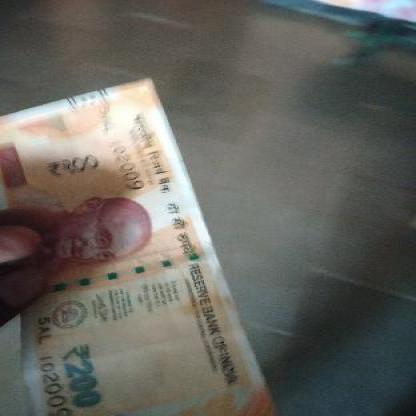New200Front: (0, 79, 280, 415)
